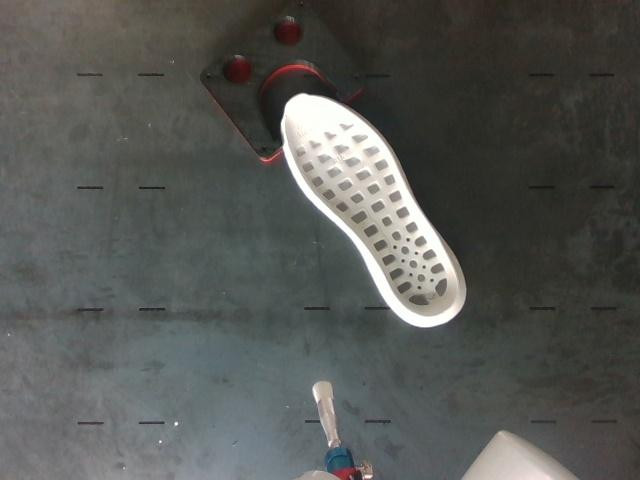shoes: (285, 95, 457, 317)
